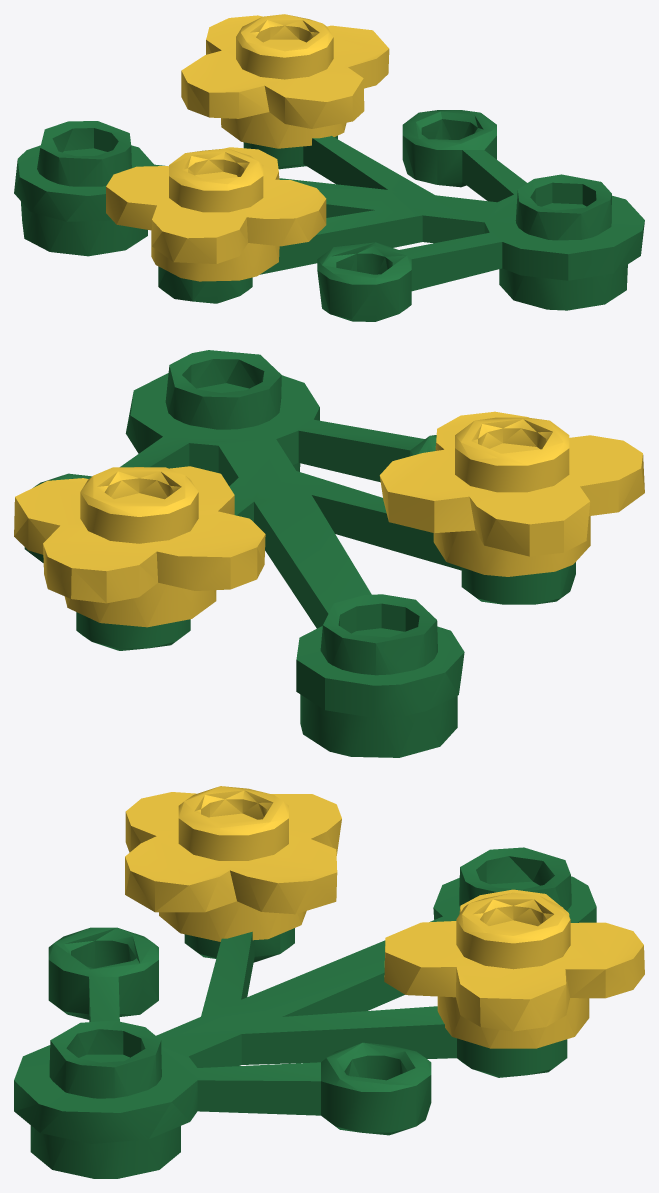
The model's file is frog_stem_a_yellow.glb.
3 renders of one model, top to bottom at view 1: azimuth 30°, elevation 25°; view 2: azimuth 150°, elevation 25°; view 3: azimuth 270°, elevation 25°, orthographic. The views are drawn at different scales.
Parts seen in each view (by area): view 1: frog_stem_a_yellow; view 2: frog_stem_a_yellow; view 3: frog_stem_a_yellow.
Part boxes in pixels (x1,y1,x2,y2): frog_stem_a_yellow: (14,14,644,321); frog_stem_a_yellow: (14,350,644,757); frog_stem_a_yellow: (14,786,644,1178).
Bounding box in the file's own units: 0.8873 × 0.2846 × 0.9399.
